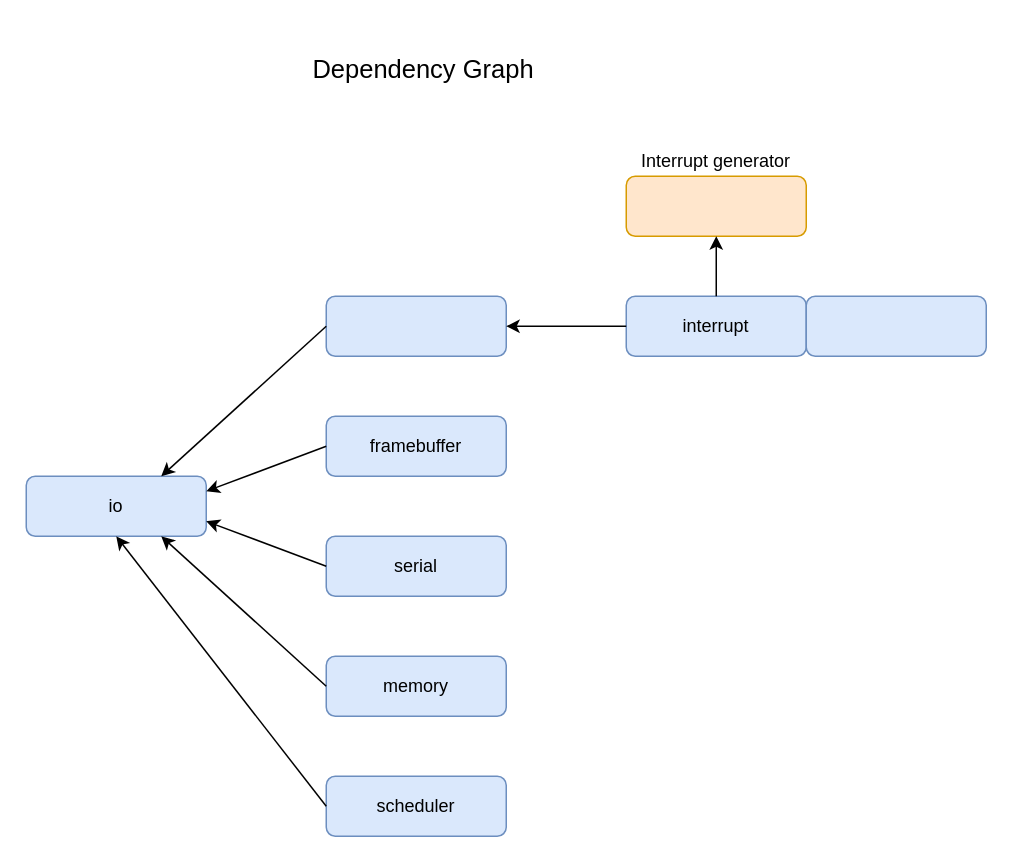
Some shapes in this 1013 by 863 pixel diagram are drawn without their labels. The centre of each missing label's shape, as x and y in pixels:
"interrupt_hnd" belongs at point (895, 325).
"keyboard" belongs at point (715, 205).
"pic" belongs at point (415, 325).
